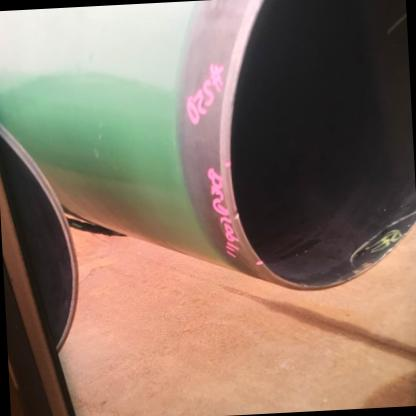Bevel: (228, 202, 242, 228)
